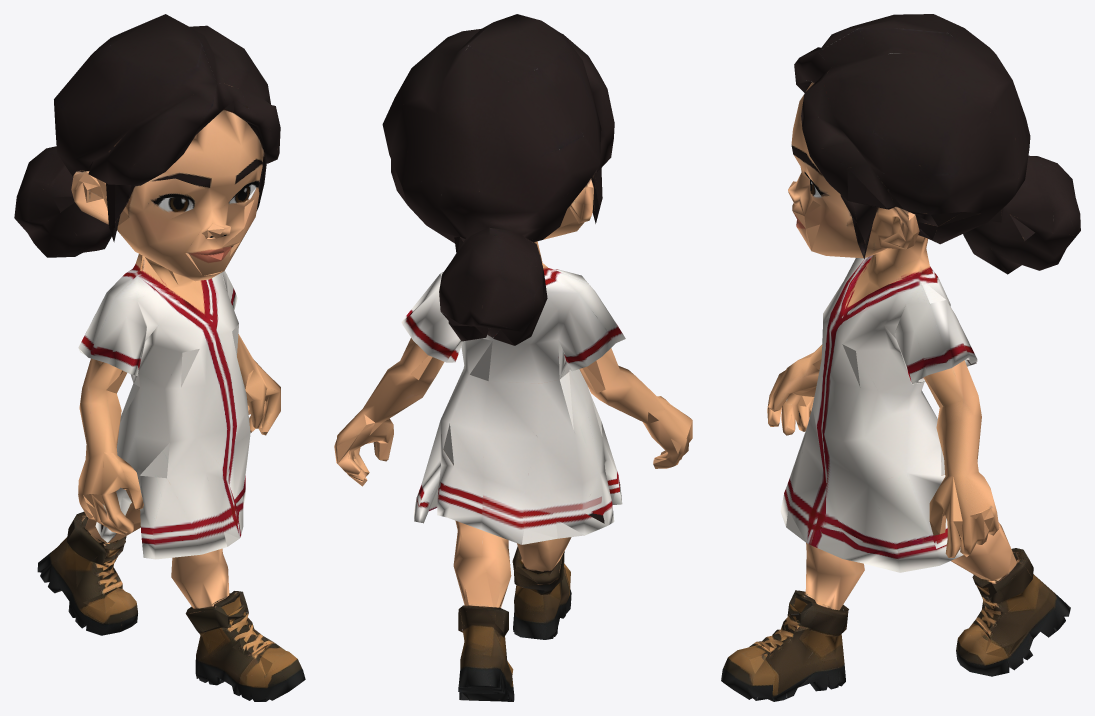
Rendered from C6_villager_d.glb.
3 views of the same model, side by side, from view 1: azimuth 30°, elevation 25°; view 2: azimuth 150°, elevation 25°; view 3: azimuth 270°, elevation 25° (orthographic). The views are drawn at different scales.
Visible parts, largest first — view 1: Mesh_0.001; view 2: Mesh_0.001; view 3: Mesh_0.001.
Part boxes in pixels (x1,y1,x2,y2): Mesh_0.001: (14, 14, 305, 701); Mesh_0.001: (334, 14, 692, 701); Mesh_0.001: (721, 14, 1080, 701).
Size of the model in its own units: 0.5144 by 1.15 by 0.5686.
1 material, 1 textured.
